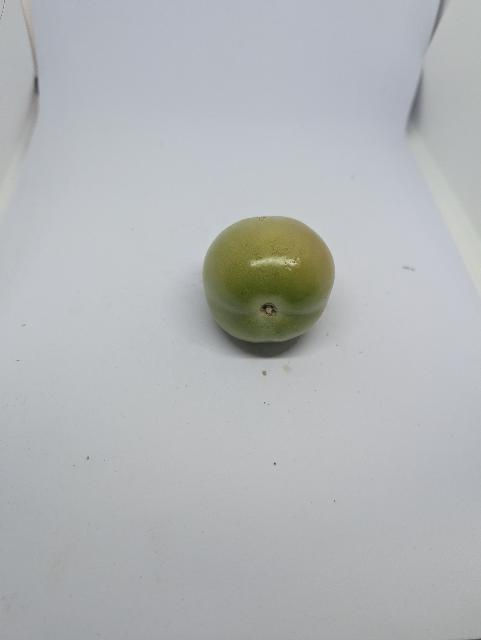green: (199, 212, 338, 349)
